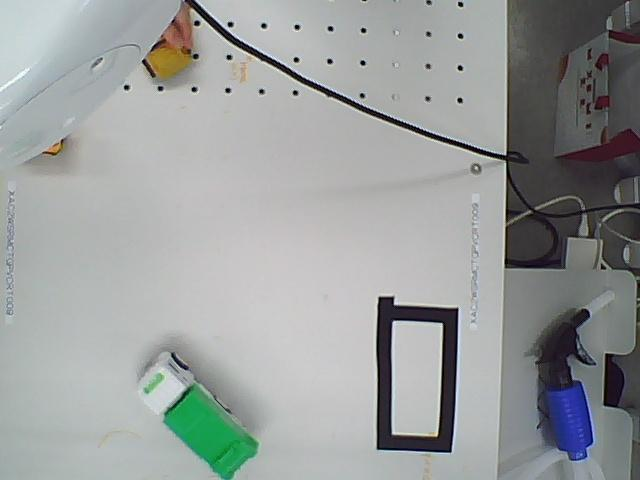Electric car: (123, 343, 265, 480)
Gasoline car: (134, 34, 201, 85)
